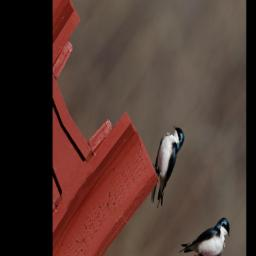Swallow: (137, 116, 196, 212)
